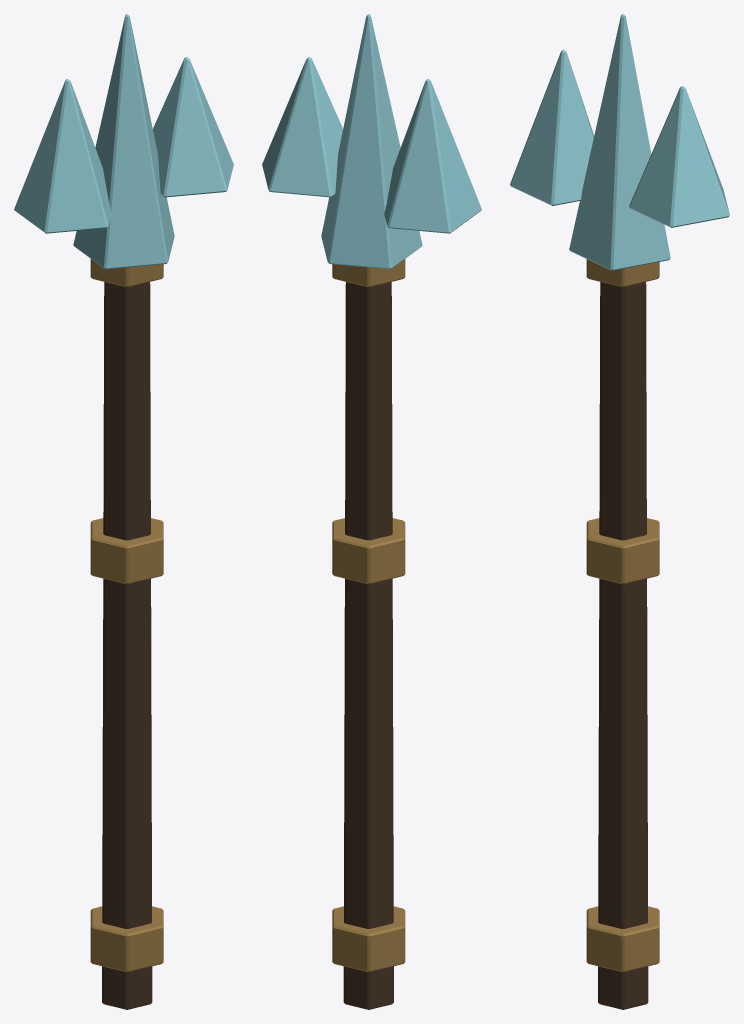
Rendered from mage_ice.glb.
3 renders of one model, left to right at view 1: azimuth 30°, elevation 25°; view 2: azimuth 150°, elevation 25°; view 3: azimuth 330°, elevation 25°, orthographic.
Parts seen in each view (by area): view 1: weapon.023; view 2: weapon.023; view 3: weapon.023.
Part boxes in pixels (bbox=[...]): weapon.023: bbox=[14, 14, 233, 1009]; weapon.023: bbox=[262, 14, 481, 1009]; weapon.023: bbox=[510, 14, 729, 1009].
Size of the model in its own units: 0.4456 by 2.06 by 0.1962.
